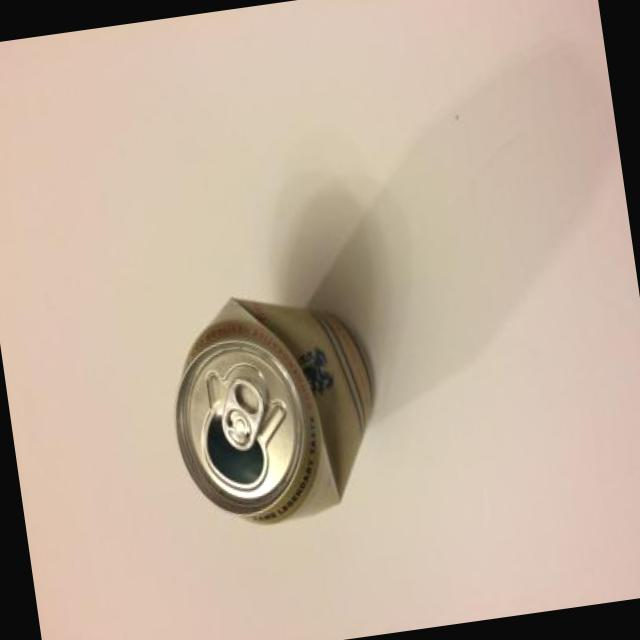kim_loai: (176, 298, 375, 522)
